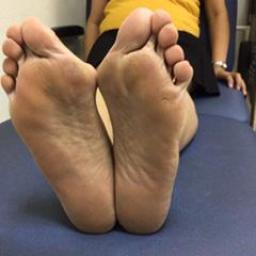Plantar View -Both Feet-: (1, 8, 197, 246)
